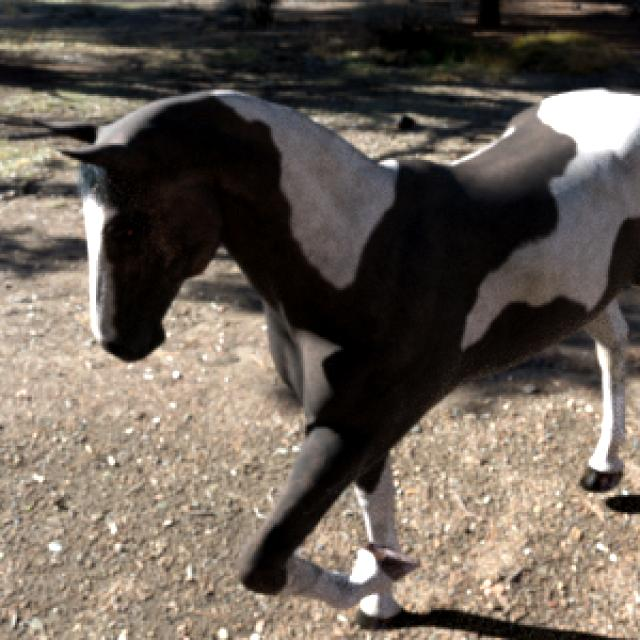horse: (66, 90, 640, 625)
